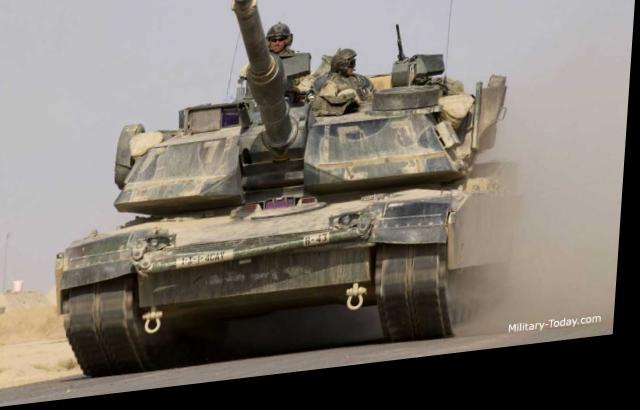other: (226, 2, 314, 110), (316, 35, 370, 125)
tank: (46, 65, 541, 382)
